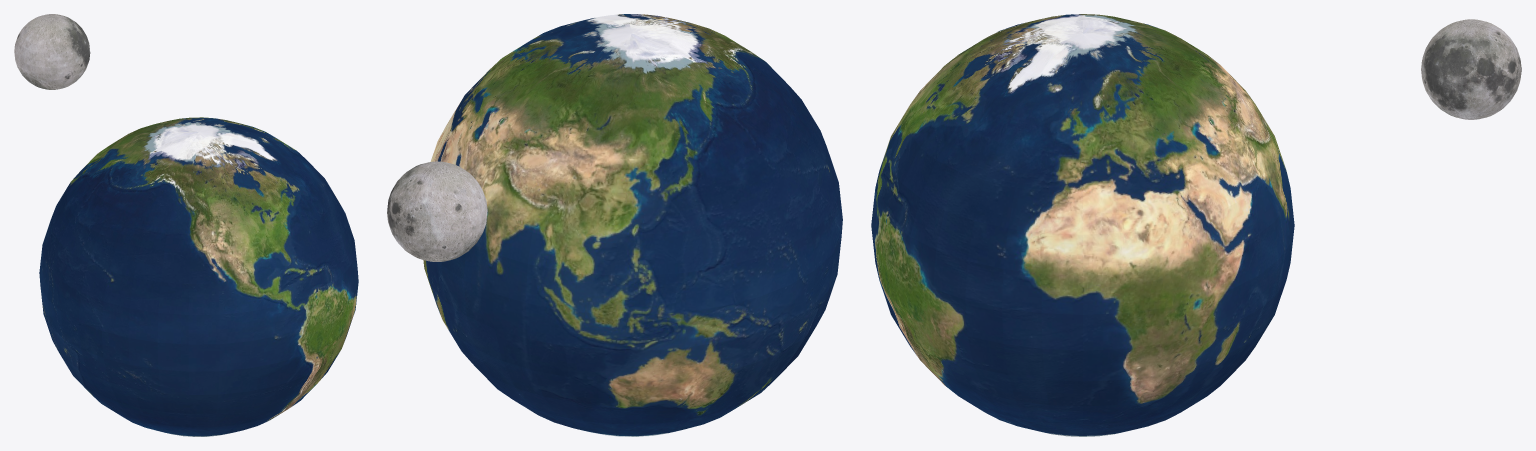
File: tierral.glb
The picture shows the model from 3 angles, left to right: view 1: azimuth 30°, elevation 25°; view 2: azimuth 150°, elevation 25°; view 3: azimuth 270°, elevation 25°; orthographic projection. The views are drawn at different scales.
Visible parts, largest first — view 1: Esfera; view 2: Esfera; view 3: Esfera.
Boxes of the visible parts, x1=… form: Esfera: x1=14, y1=14, x2=358, y2=436; Esfera: x1=387, y1=14, x2=842, y2=436; Esfera: x1=871, y1=14, x2=1521, y2=436.
Bounding box in the file's own units: 2 × 2.05 × 3.07.
Materials: 2 (2 with a texture image).
